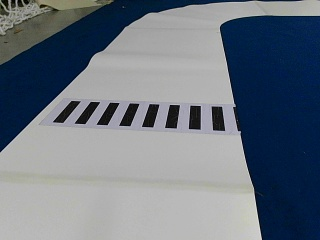crosswalk: (53, 102, 239, 132)
